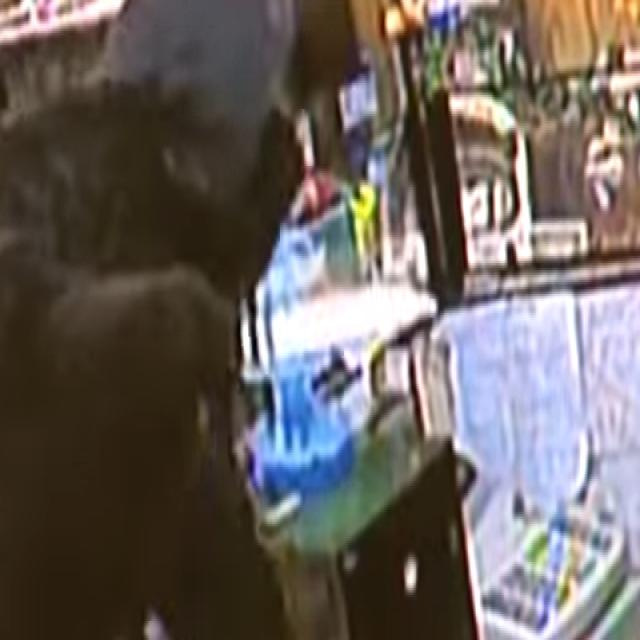Fknife: (229, 272, 447, 390)
